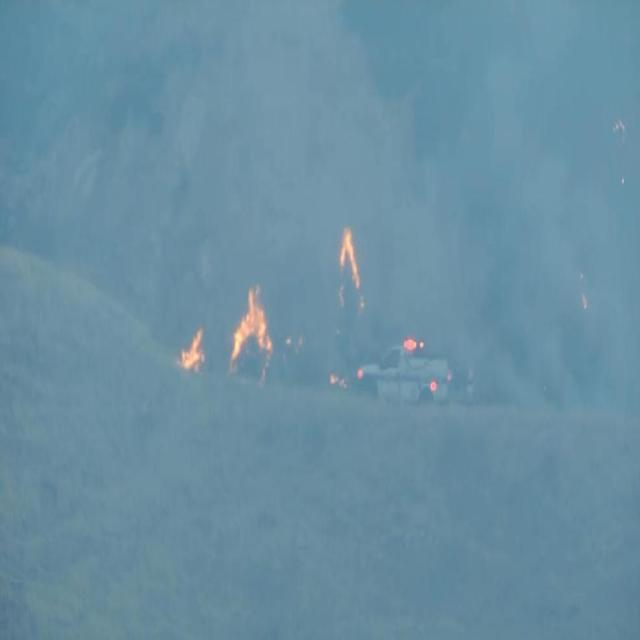Fire: (223, 278, 277, 382), (334, 214, 374, 334), (175, 326, 209, 373)
